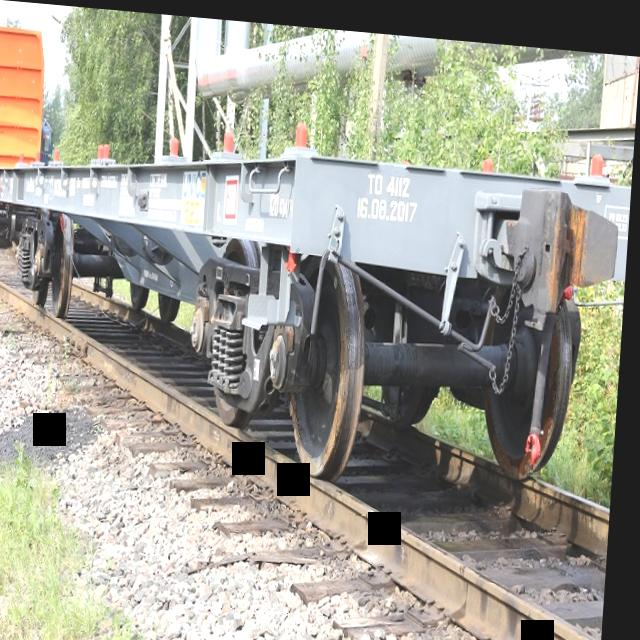flatcar: (0, 87, 635, 508)
